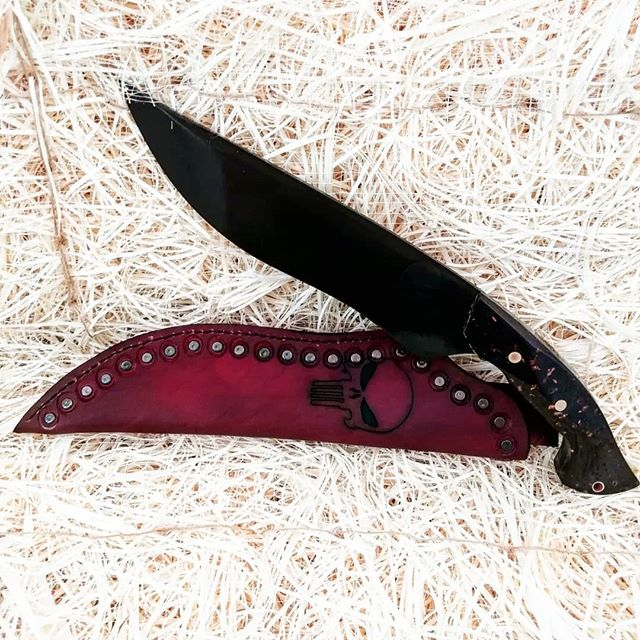knife: (121, 81, 640, 495)
